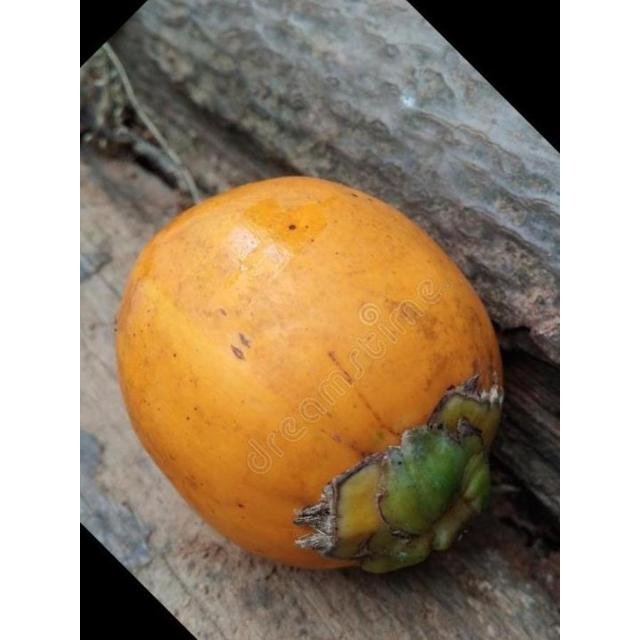good: (113, 176, 505, 577)
